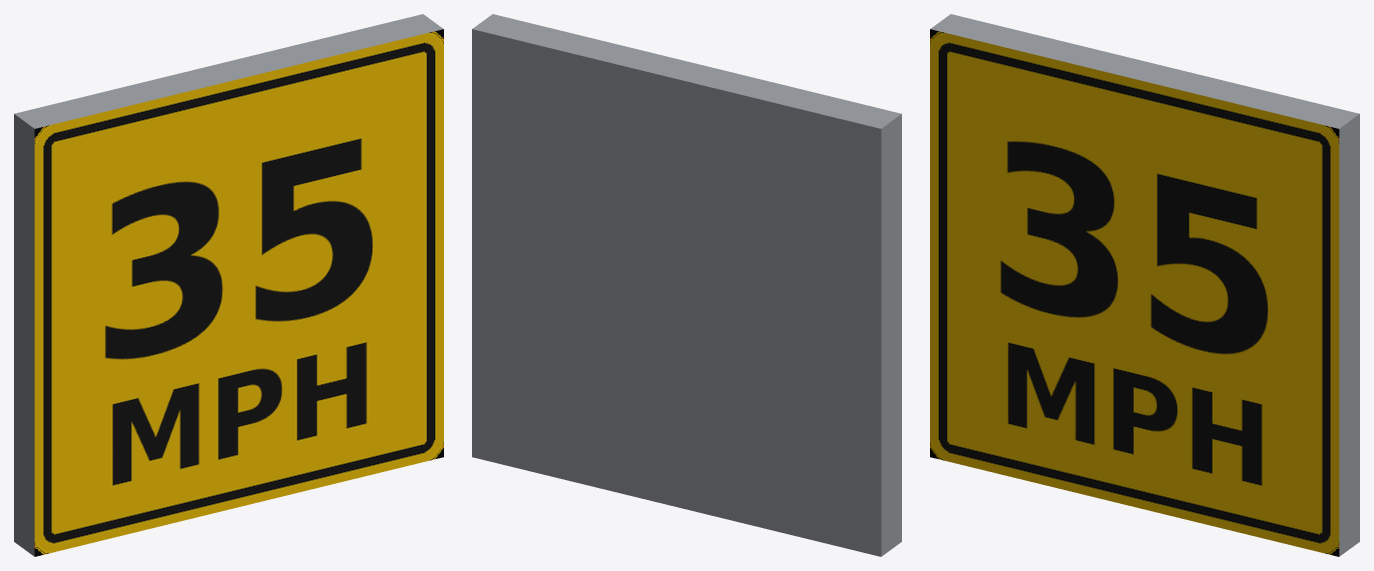
File: us_advisory35.dae
The picture shows the model from 3 angles, left to right: view 1: azimuth 30°, elevation 25°; view 2: azimuth 150°, elevation 25°; view 3: azimuth 330°, elevation 25°; orthographic projection.
Parts seen in each view (by area): view 1: sign4, Colmesh-1; view 2: Colmesh-1; view 3: sign4, Colmesh-1.
Part boxes in pixels (box(x1,y1,x2,y2)): sign4: box(34, 29, 443, 556); Colmesh-1: box(14, 14, 443, 556); Colmesh-1: box(472, 14, 901, 556); sign4: box(930, 29, 1339, 556); Colmesh-1: box(930, 14, 1359, 556).
Bounding box in the file's own units: 0.4572 × 0.04 × 0.4572.
Materials: 2 (1 with a texture image).
